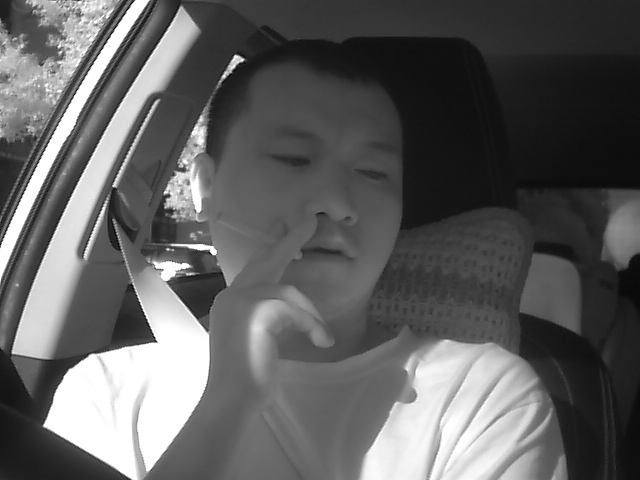hand: (209, 227, 329, 388)
